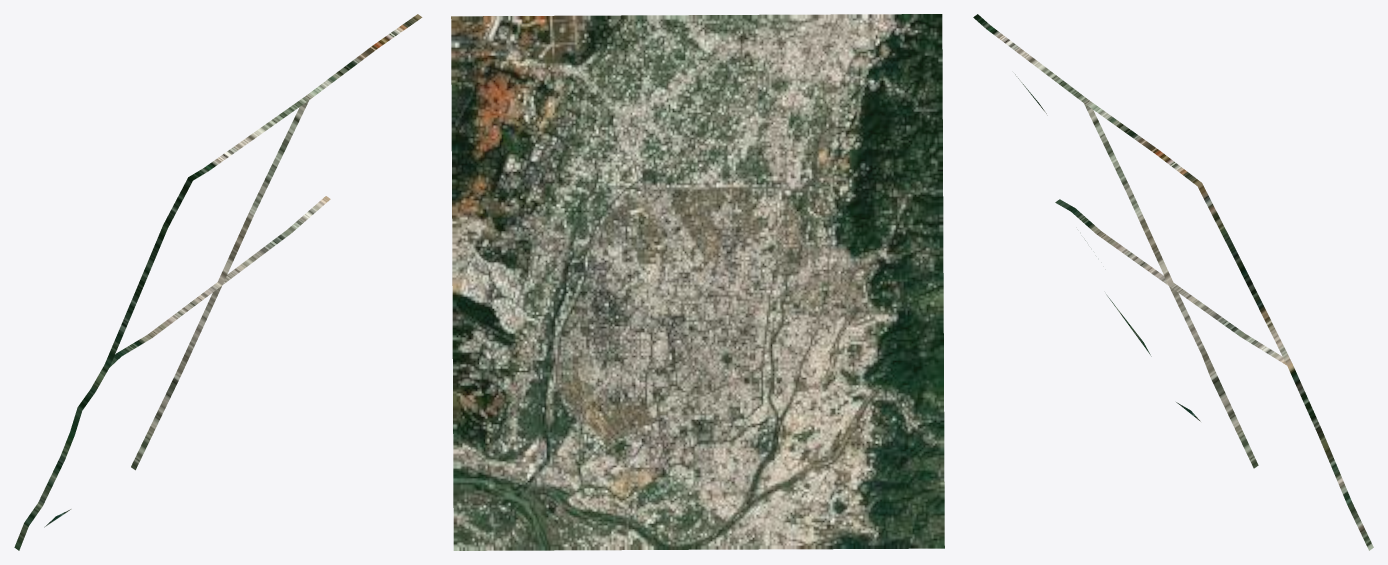
The picture shows the model from 3 angles, left to right: view 1: azimuth 30°, elevation 25°; view 2: azimuth 150°, elevation 25°; view 3: azimuth 270°, elevation 25°; orthographic projection. The views are drawn at different scales.
Size of the model in its own units: 19764 by 18145 by 15961.
1 material, 1 textured.
